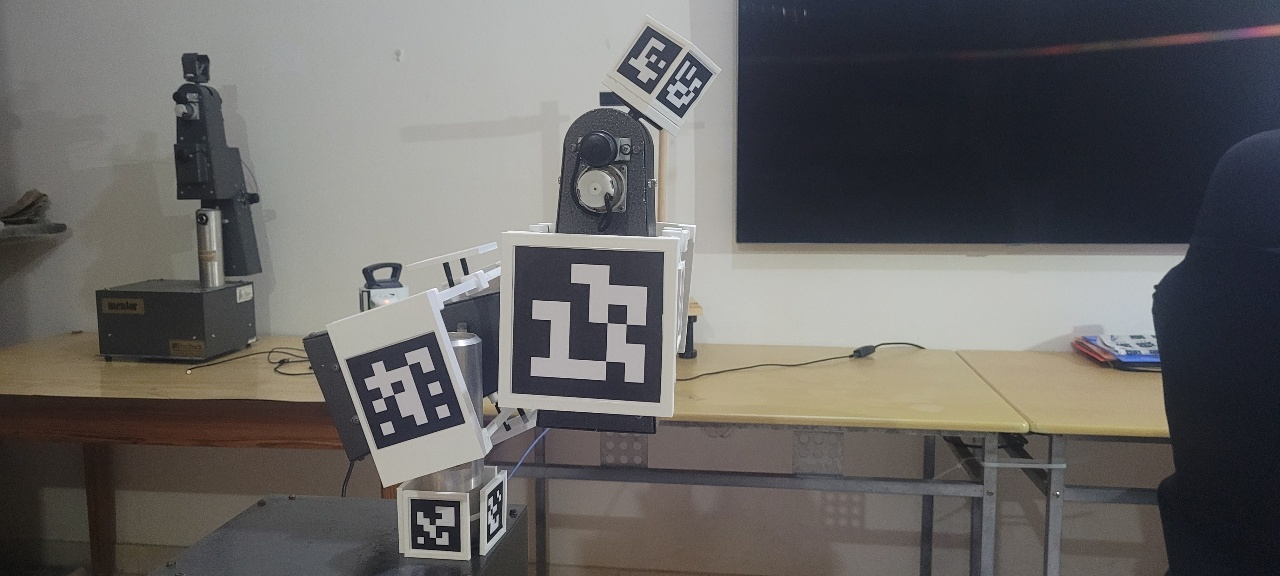Robot: (395, 13, 738, 576)
